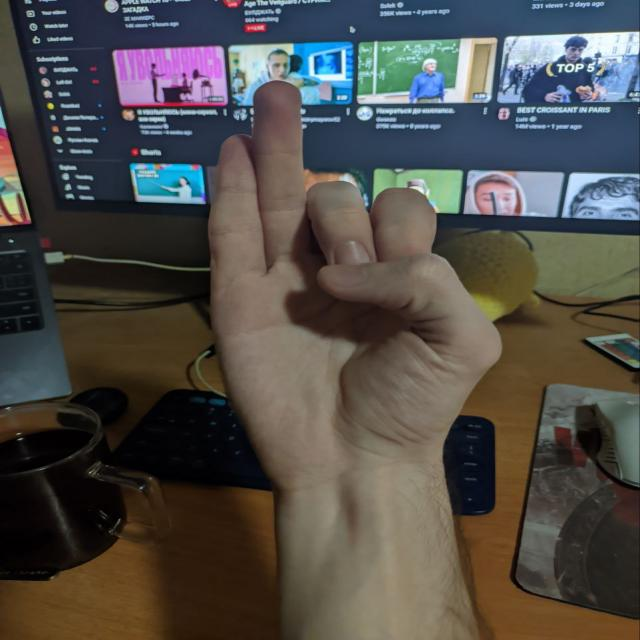i: (149, 78, 501, 445)
